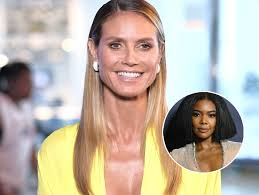white_female: (101, 30, 160, 94)
